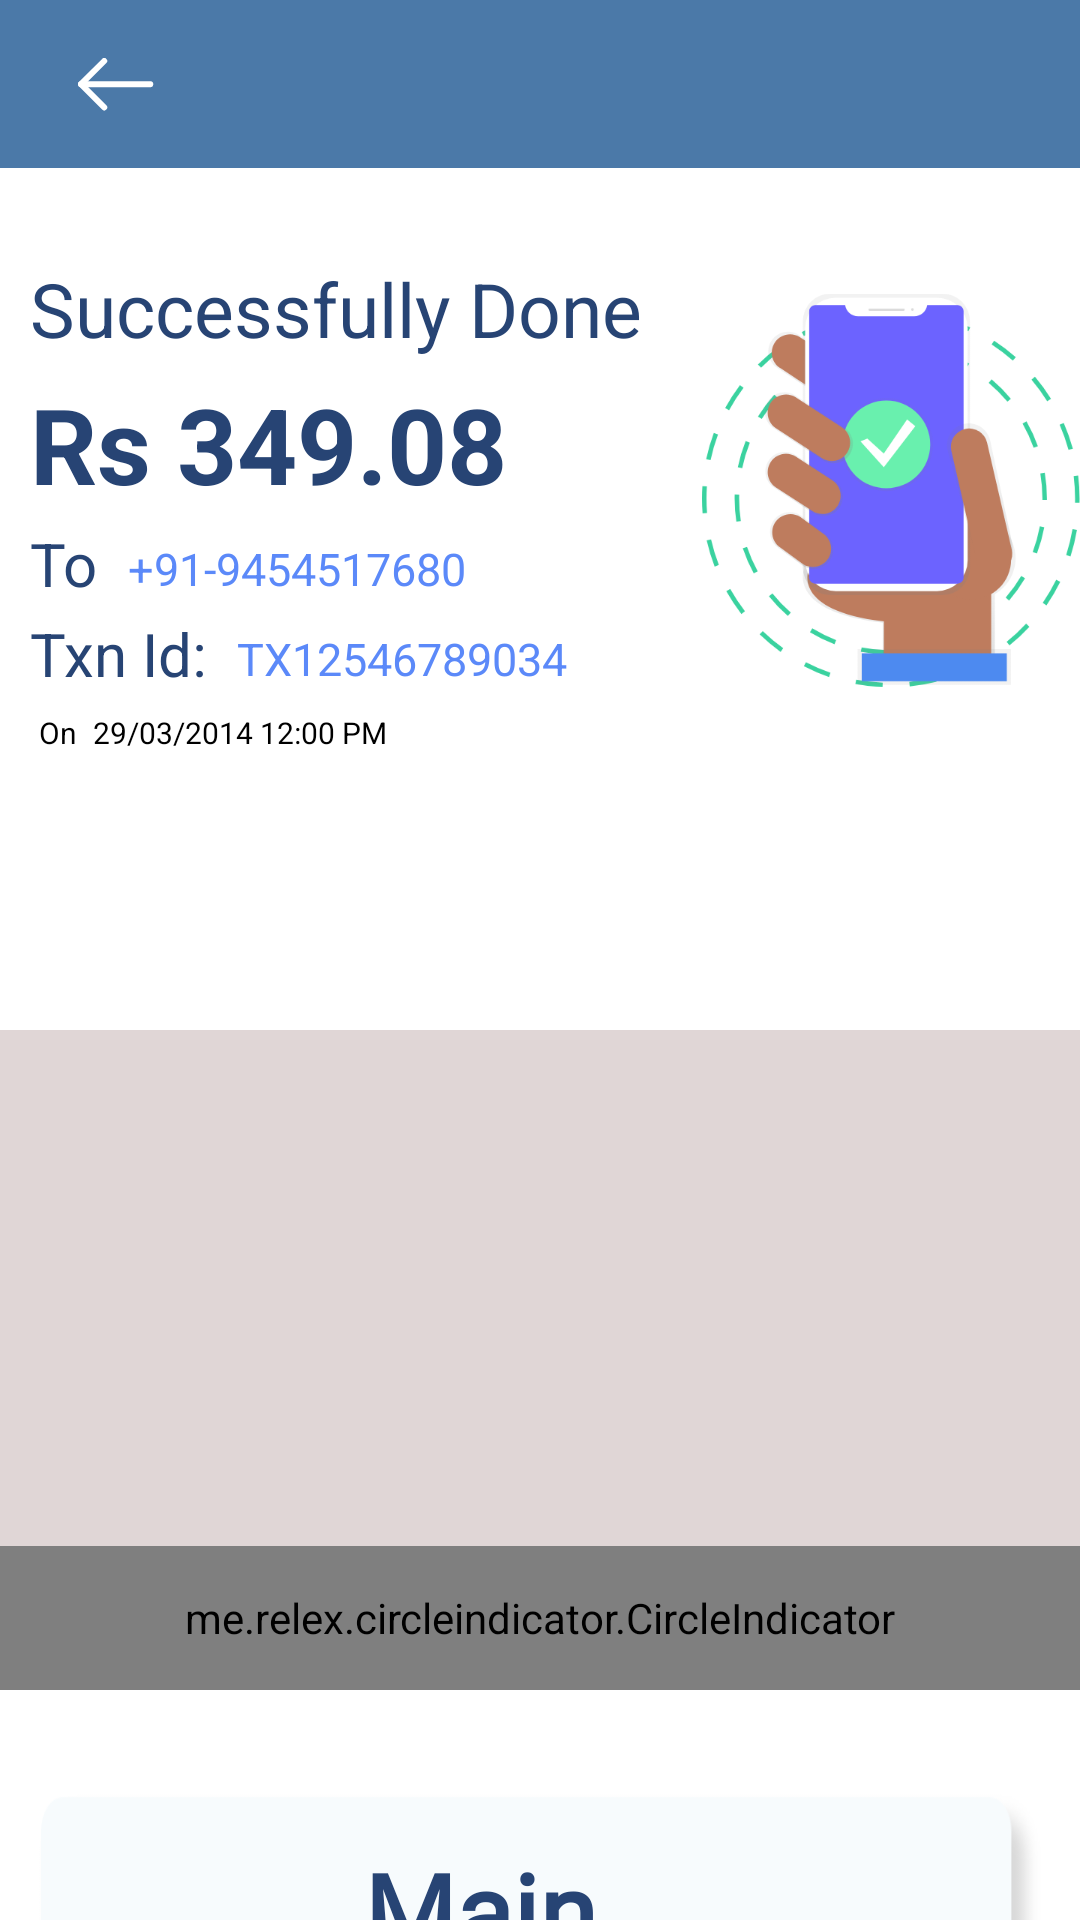

Named icons in this screenshot (1080 × 1920) and their bounding boxes, (x1, y1, x2, y2):
back: (78, 58, 154, 111)
